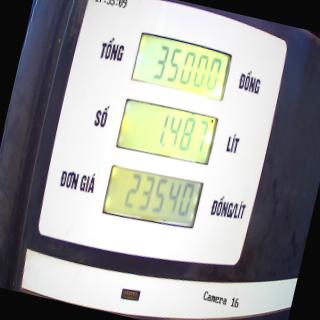screen: (96, 28, 236, 236)
